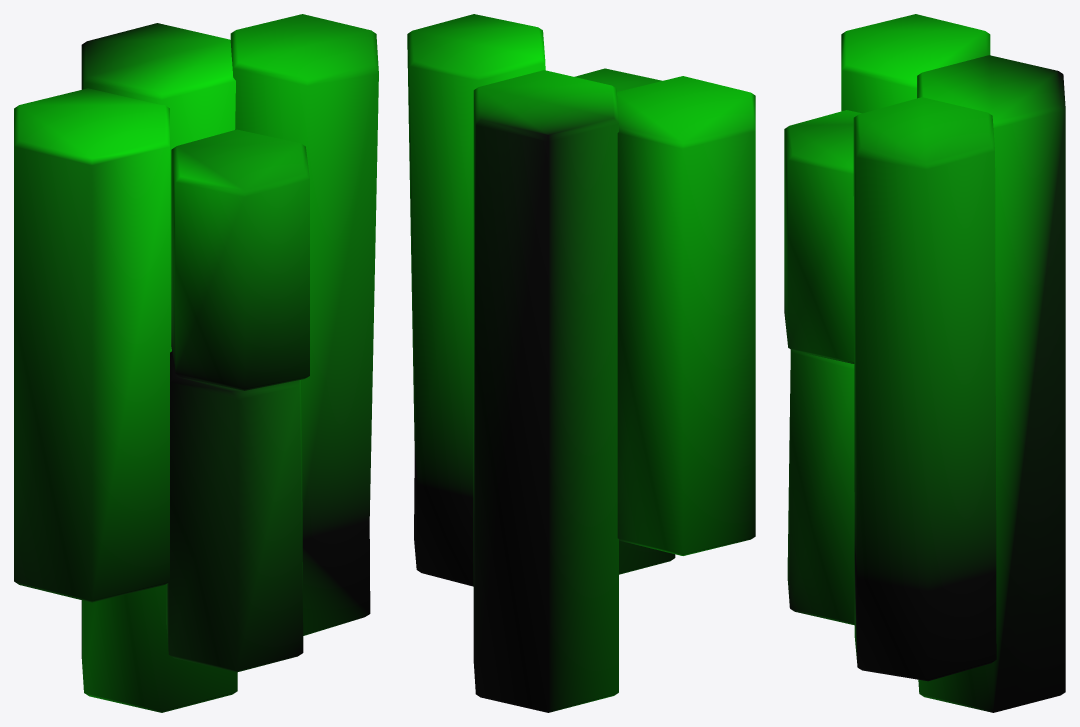
File: SM_RockHexic_Rocks03.fbx
3 views of the same model, side by side, from view 1: azimuth 30°, elevation 25°; view 2: azimuth 150°, elevation 25°; view 3: azimuth 270°, elevation 25° (orthographic). The views are drawn at different scales.
Visible parts, largest first — view 1: SM_RockHexic_Rocks03; view 2: SM_RockHexic_Rocks03; view 3: SM_RockHexic_Rocks03.
Part boxes in pixels (x1,y1,x2,y2): SM_RockHexic_Rocks03: [14, 14, 378, 712]; SM_RockHexic_Rocks03: [407, 14, 755, 712]; SM_RockHexic_Rocks03: [784, 14, 1065, 712].
Size of the model in its own units: 983 by 682 by 1611.
